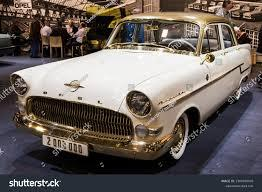opel: (59, 76, 91, 95)
